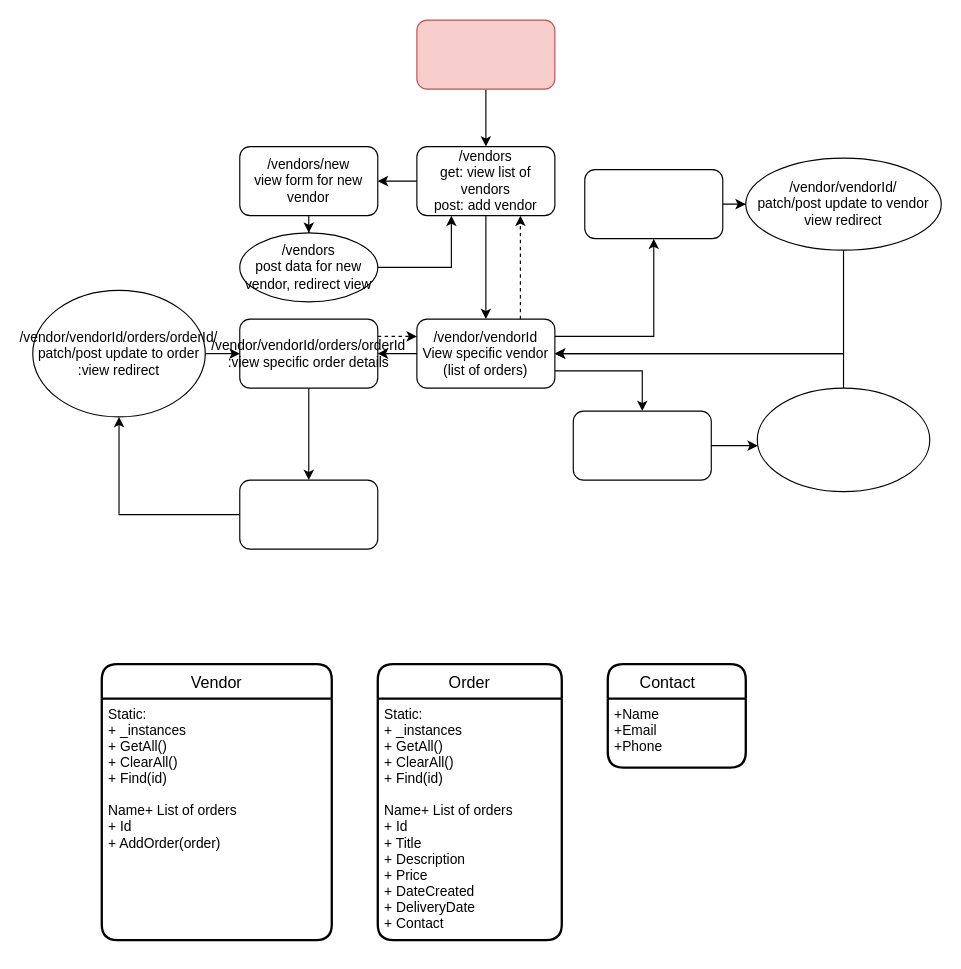
Image size: 961x969. Some labels were removed from this diagram. The shapes that lost their labels are listed below. From the top down, each one's centre as x and y in pixels, then its label:
At point (485, 54): "Home".
At point (653, 203): "/vendor/vendorId/edit get form to edit specific vendor".
At point (641, 445): "/vendor/vendorId/orders/new :View form for new order".
At point (843, 439): "/vendor/vendorId/orders post data for new vendor :view redirect".
At point (308, 514): "/vendor/vendorId/orders/orderId/edit :view form to update order".
